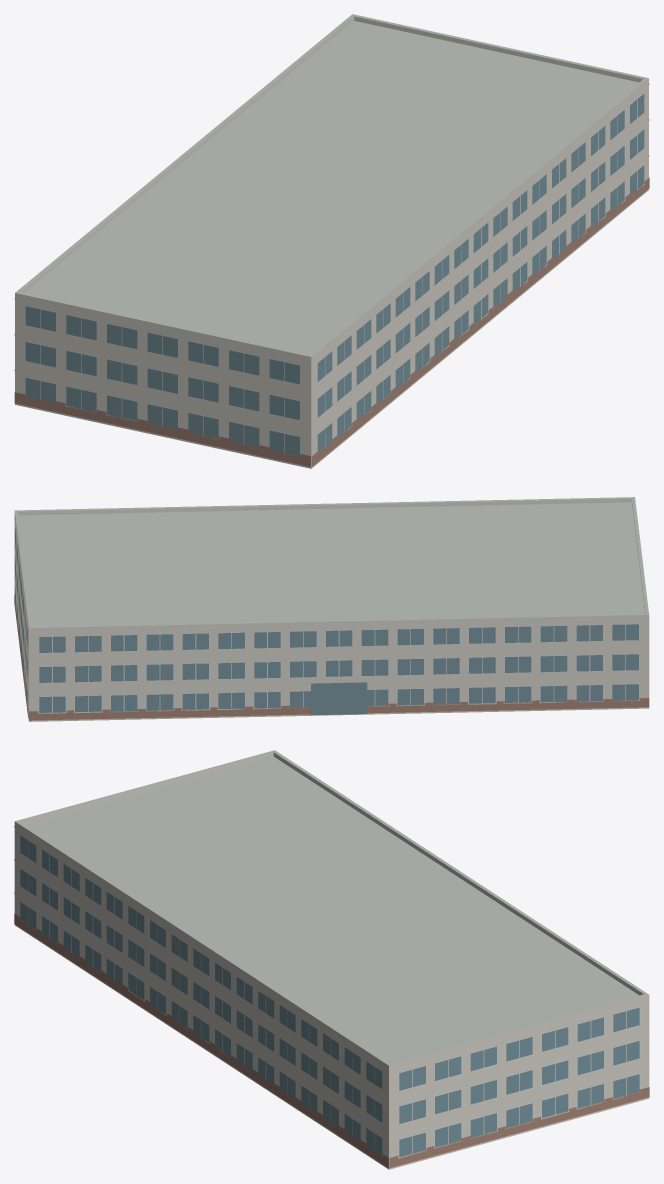
Rendered from public-3f4c46b8-9e88-4f0a-b6b5-e7321b7cce19.glb.
3 views of the same model, one above another, from view 1: azimuth 30°, elevation 25°; view 2: azimuth 150°, elevation 25°; view 3: azimuth 270°, elevation 25° (orthographic). The views are drawn at different scales.
Parts seen in each view (by area): view 1: public-3f4c46b8-9e88-4f0a-b6b5-e7321b7cce19; view 2: public-3f4c46b8-9e88-4f0a-b6b5-e7321b7cce19; view 3: public-3f4c46b8-9e88-4f0a-b6b5-e7321b7cce19.
Boxes of the visible parts, x1,y1,x2,y2 form: public-3f4c46b8-9e88-4f0a-b6b5-e7321b7cce19: (14,14,649,468); public-3f4c46b8-9e88-4f0a-b6b5-e7321b7cce19: (14,497,649,721); public-3f4c46b8-9e88-4f0a-b6b5-e7321b7cce19: (14,750,649,1169).
Size of the model in its own units: 59.71 by 9.15 by 50.73.
